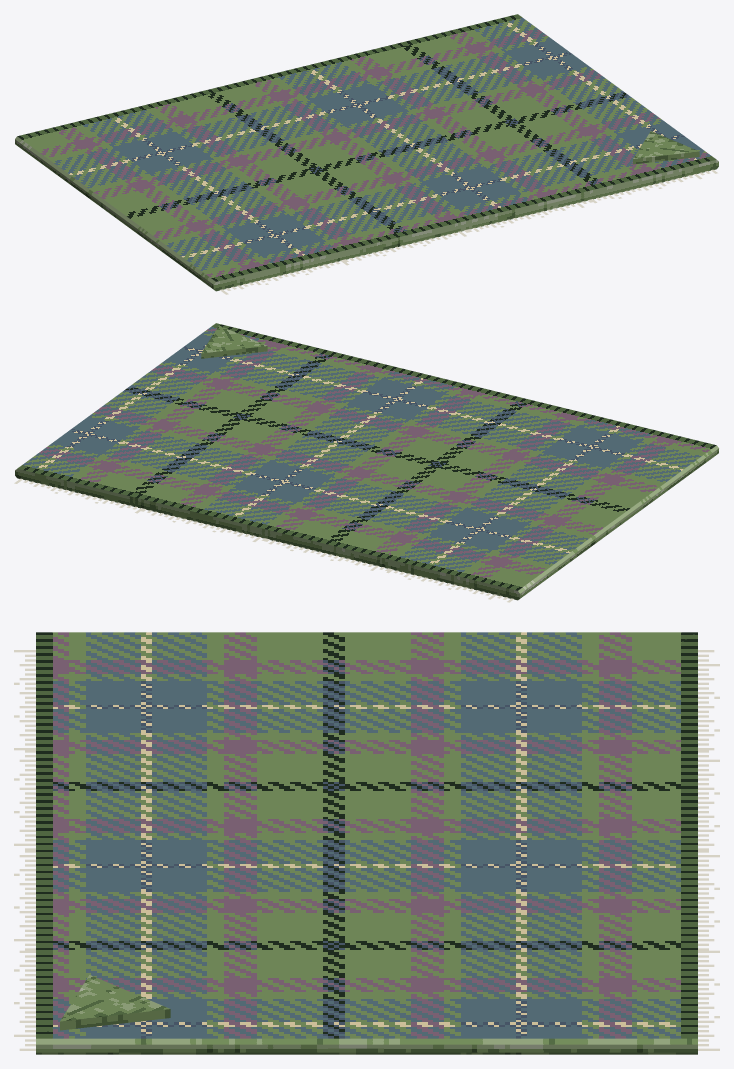
The model's file is sv_tartanrug.glb.
3 renders of one model, top to bottom at view 1: azimuth 30°, elevation 25°; view 2: azimuth 150°, elevation 25°; view 3: azimuth 270°, elevation 25°, orthographic. The views are drawn at different scales.
Parts seen in each view (by area): view 1: rug, fringe0, corner; view 2: rug, fringe1, corner; view 3: rug, fringe0, fringe1, corner.
Boxes of the visible parts, <box> form: rug: <box>15,14,718,291</box>; fringe0: <box>220,169,717,294</box>; corner: <box>633,131,699,164</box>; rug: <box>15,323,718,600</box>; fringe1: <box>14,478,513,602</box>; corner: <box>201,325,267,358</box>; rug: <box>36,632,697,1054</box>; fringe0: <box>14,650,35,1050</box>; fringe1: <box>698,650,719,1050</box>; corner: <box>60,975,170,1030</box>.
Bounding box in the file's own units: 2.75 × 0.0781 × 2.
2 materials, 2 textured.
